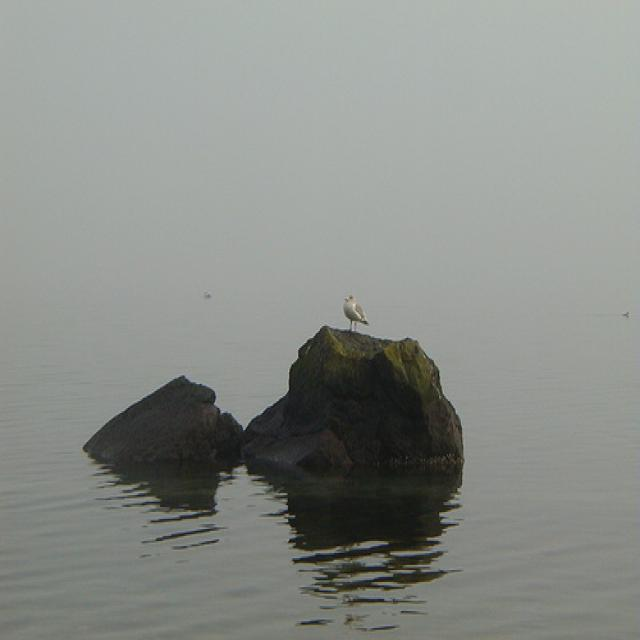bird: (340, 293, 371, 335)
